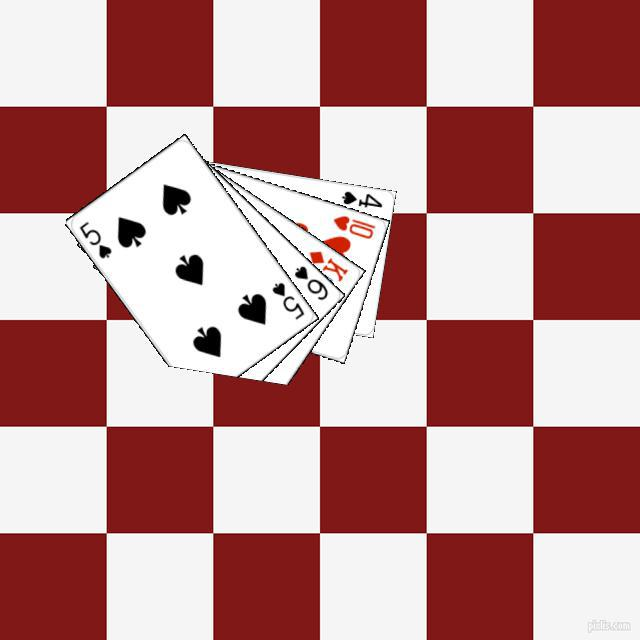10h: (328, 210, 377, 241)
4s: (337, 186, 384, 209)
5s: (267, 277, 306, 321), (74, 216, 113, 260)
6s: (289, 260, 330, 302)
Kd: (304, 246, 350, 283)
